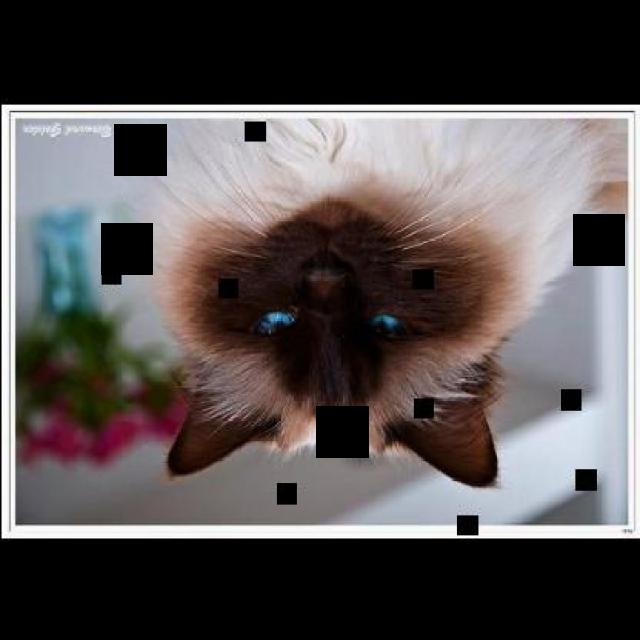unauthorized: (131, 116, 626, 490)
